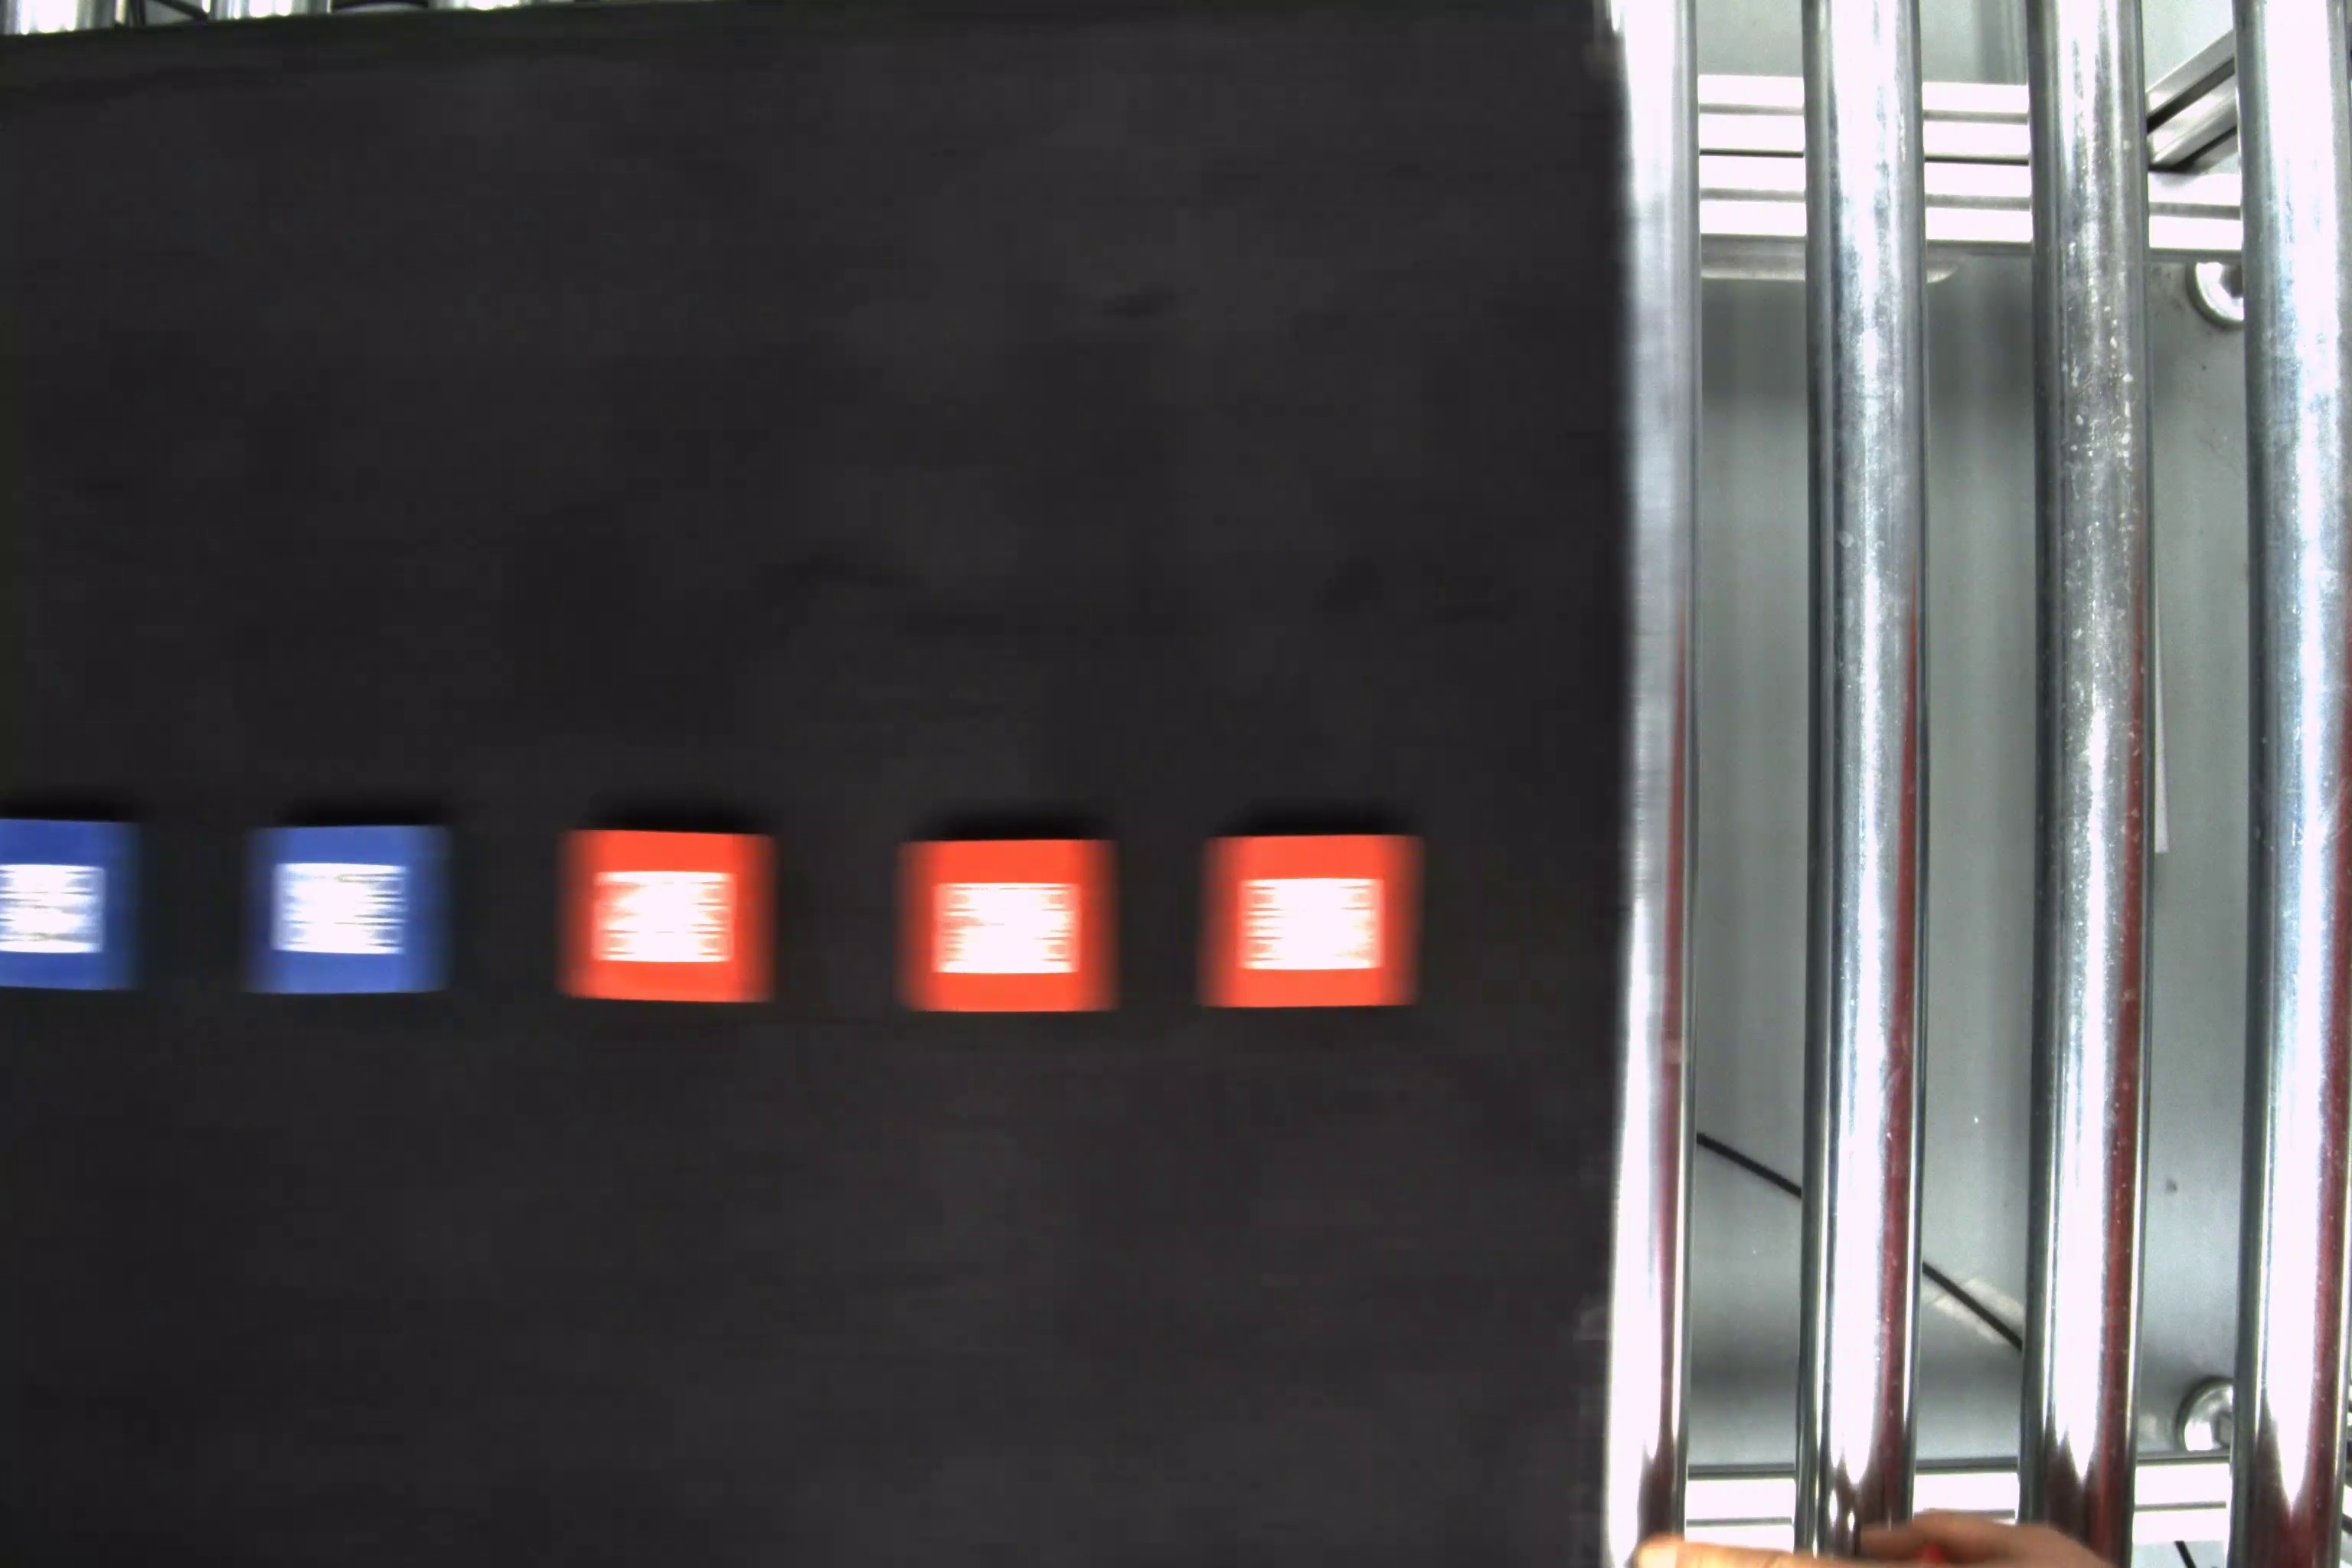wood: (898, 833, 1127, 1018), (1193, 835, 1430, 1006), (556, 831, 782, 1006), (247, 822, 458, 1004), (2, 821, 149, 1003)
